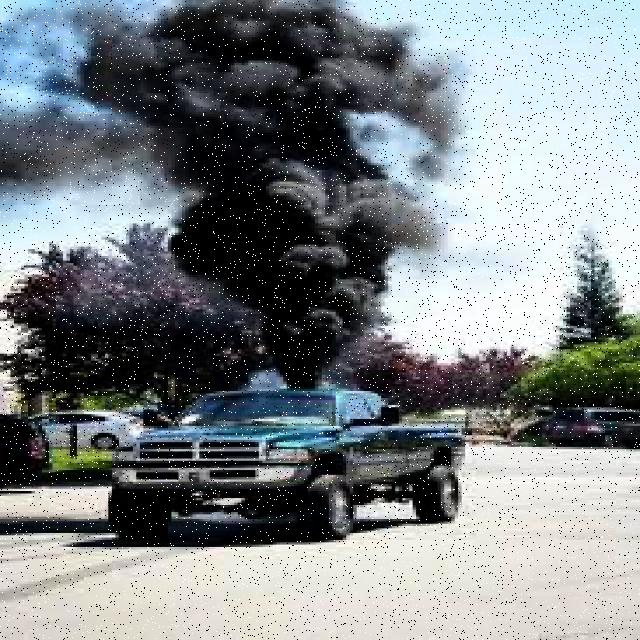smoke: (94, 5, 442, 386)
